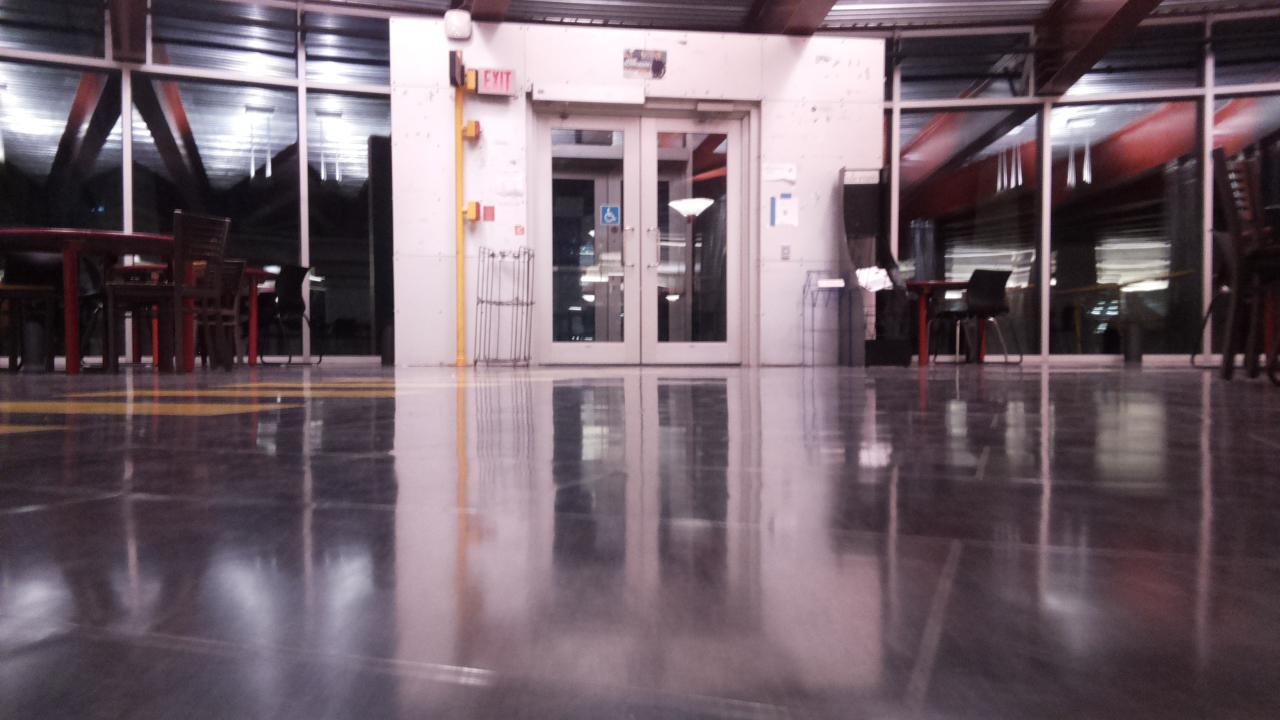door: (536, 113, 740, 363)
sign: (478, 68, 514, 93), (600, 206, 618, 223)
